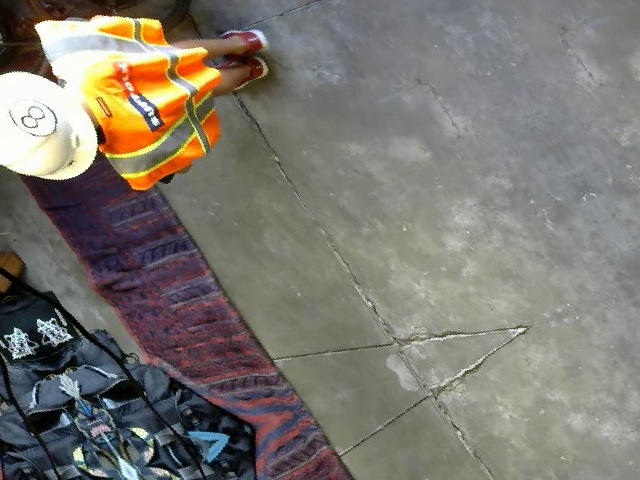eight: (0, 88, 67, 145)
